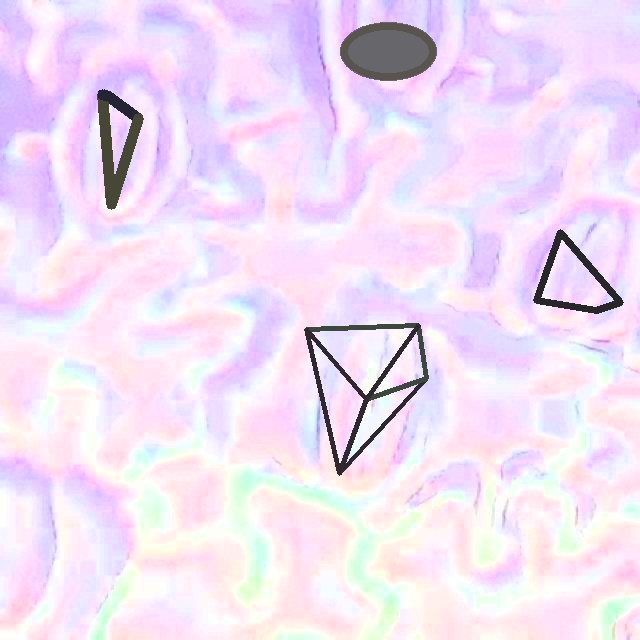close: (304, 323, 428, 475), (534, 230, 622, 313), (339, 22, 436, 80), (98, 91, 142, 208)
